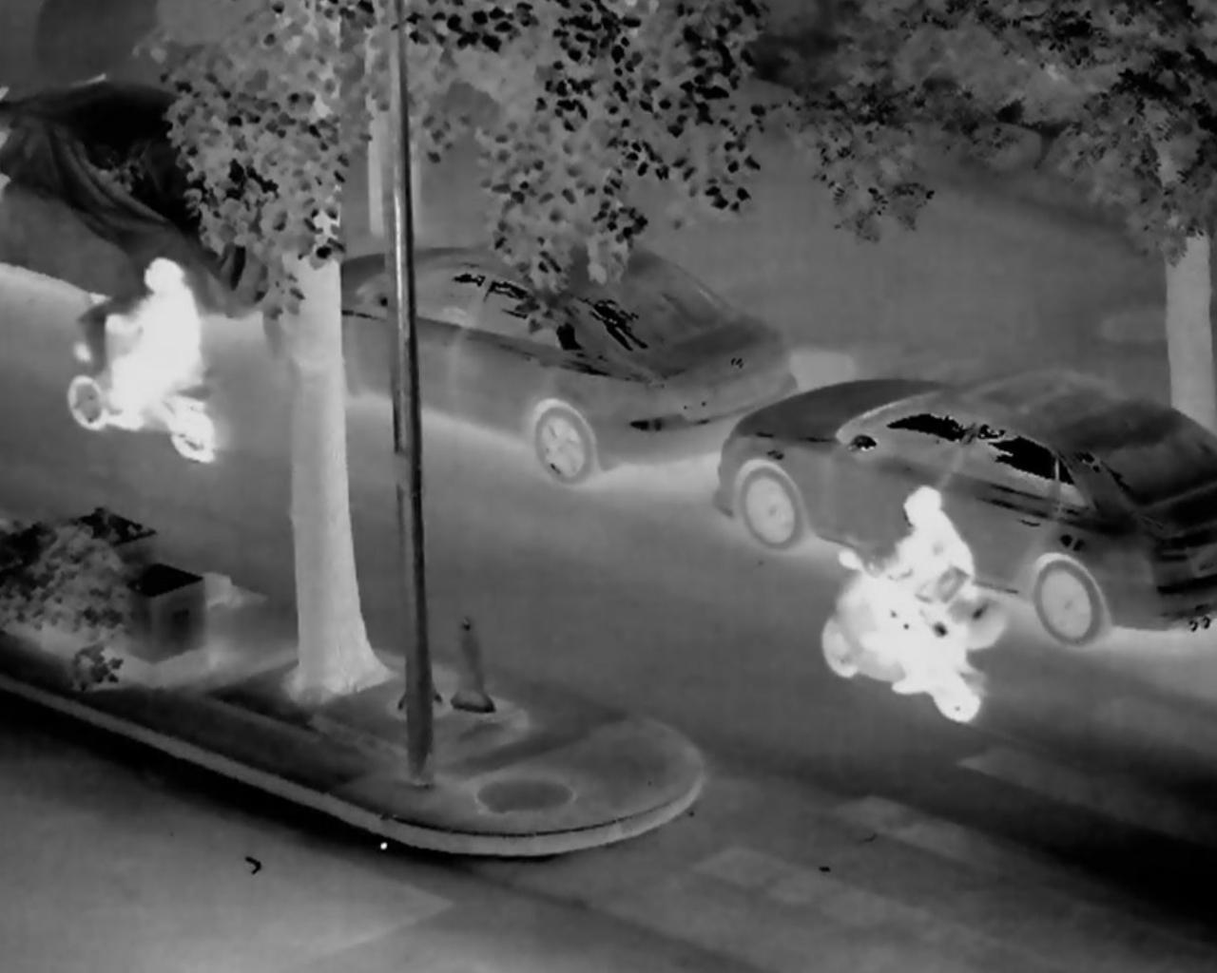person: (852, 469, 975, 702), (100, 251, 210, 484)
